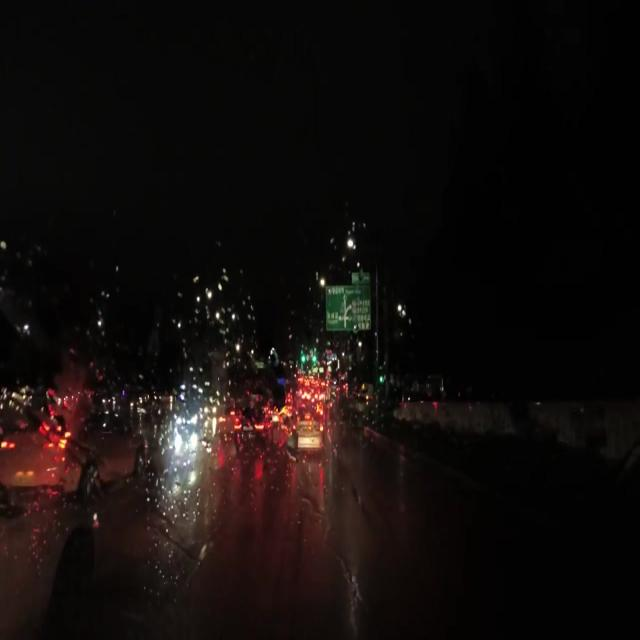Car: (3, 392, 142, 494), (232, 403, 266, 448), (292, 405, 327, 447)
